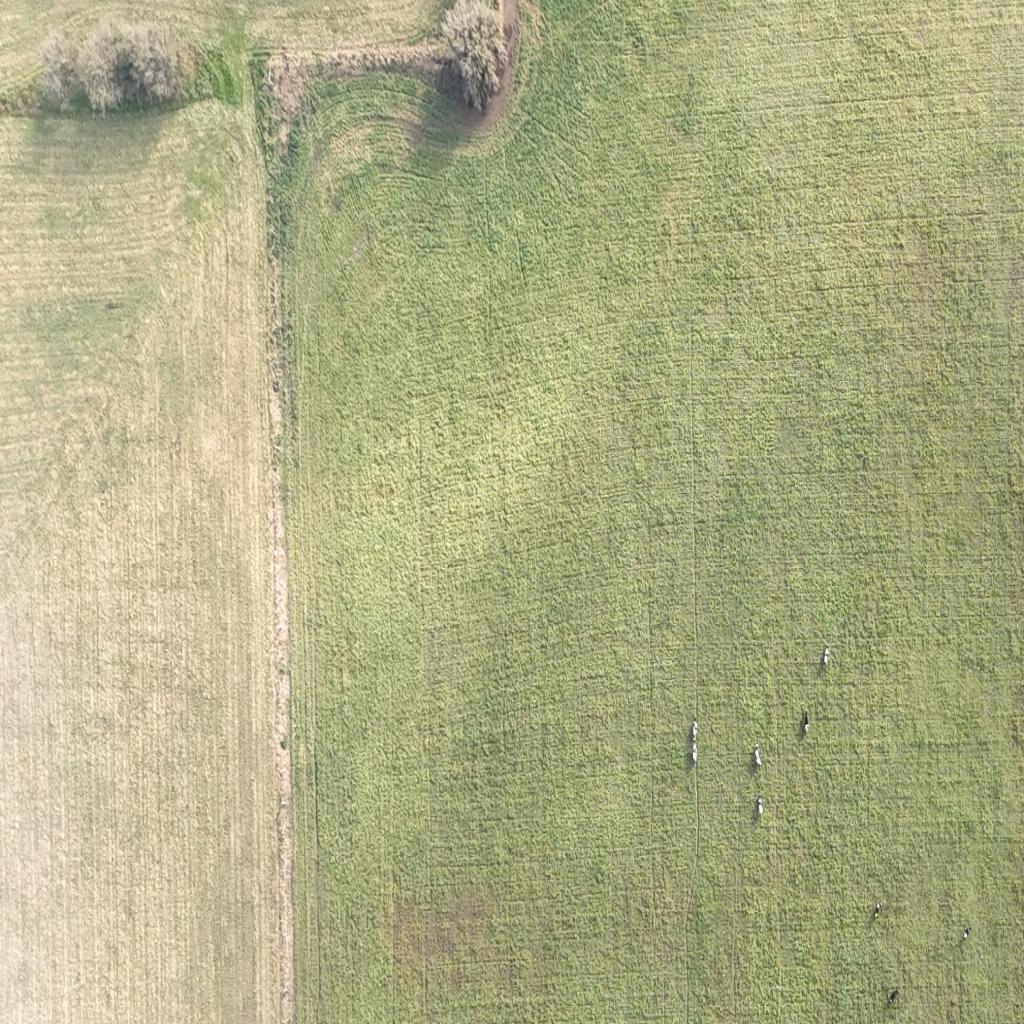cow: (800, 704, 810, 732), (754, 746, 763, 770), (889, 988, 900, 1006), (873, 902, 882, 920), (693, 742, 700, 765), (824, 646, 832, 666), (692, 713, 698, 739), (962, 926, 971, 942), (758, 798, 763, 816)
